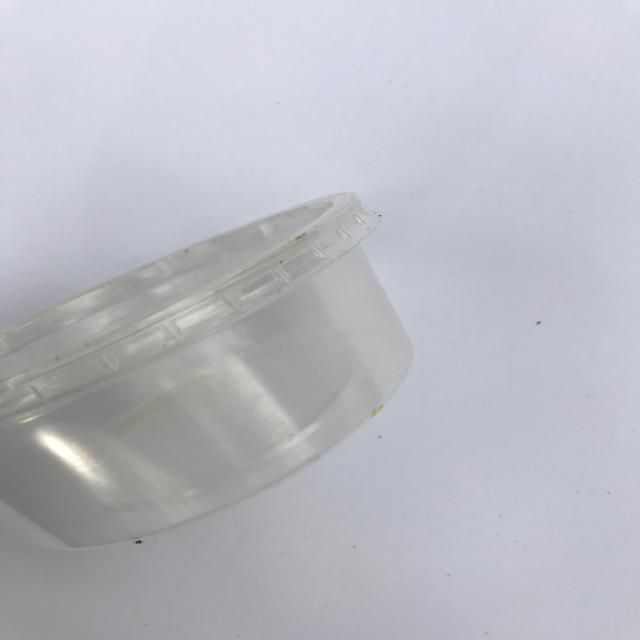plastic: (1, 190, 414, 549)
